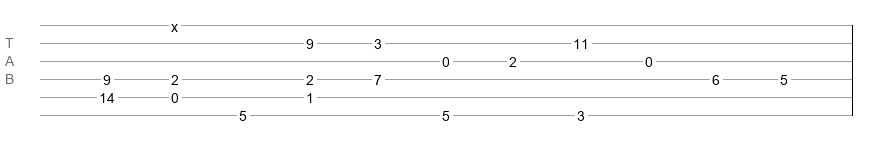0: (171, 90, 179, 100), (442, 54, 450, 64), (645, 54, 653, 64)
1: (306, 90, 314, 100)
11: (573, 36, 589, 46)
14: (99, 90, 115, 100)
2: (171, 72, 179, 82), (306, 72, 314, 82), (509, 54, 517, 64)
3: (374, 36, 382, 46), (577, 108, 585, 118)
5: (239, 108, 247, 118), (442, 108, 450, 118), (780, 72, 788, 82)
6: (712, 72, 720, 82)
7: (374, 72, 382, 82)
9: (103, 72, 111, 82), (306, 36, 314, 46)
x: (171, 19, 178, 27)
